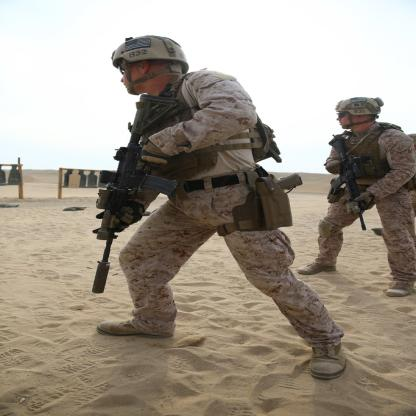Helmet: (112, 32, 191, 96), (334, 96, 380, 126)
